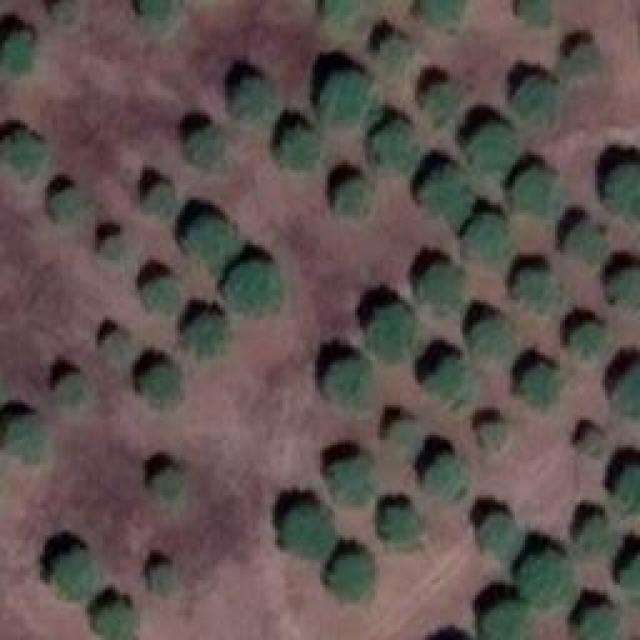Tree: (523, 550, 575, 613), (323, 68, 376, 128), (277, 505, 334, 556), (370, 308, 425, 360), (228, 265, 281, 318), (370, 123, 423, 175), (473, 315, 523, 370), (462, 210, 509, 267), (328, 458, 382, 507), (518, 268, 568, 320), (325, 360, 378, 409), (180, 223, 233, 271), (333, 553, 381, 604), (135, 360, 186, 407), (510, 168, 557, 218), (602, 160, 640, 220), (420, 168, 468, 215), (275, 127, 323, 173), (473, 125, 521, 171), (428, 355, 472, 405), (425, 450, 470, 498), (47, 550, 94, 595), (518, 77, 562, 124), (475, 512, 520, 557), (140, 278, 187, 321), (478, 602, 531, 640), (230, 78, 275, 122), (560, 222, 603, 267), (523, 368, 566, 412), (5, 417, 47, 462), (424, 265, 466, 310), (578, 602, 628, 639), (183, 315, 224, 360), (0, 28, 36, 79), (335, 178, 376, 222), (92, 600, 138, 639), (573, 513, 610, 561), (148, 460, 188, 503), (573, 323, 613, 366), (610, 360, 640, 415), (383, 508, 424, 548), (418, 83, 458, 124), (5, 133, 43, 176), (560, 40, 605, 76), (190, 125, 230, 165), (415, 0, 468, 29), (607, 265, 640, 310), (325, 0, 372, 31), (378, 30, 413, 71), (48, 188, 84, 225), (55, 378, 90, 414), (147, 178, 181, 212), (475, 418, 508, 453), (512, 0, 557, 25), (387, 417, 419, 450), (622, 463, 640, 516), (100, 233, 130, 264), (148, 563, 178, 593), (583, 425, 609, 459), (137, 0, 179, 21), (103, 333, 131, 363), (620, 553, 640, 595)
